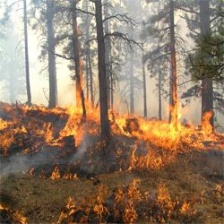fire: (5, 99, 224, 158), (64, 185, 198, 224)
